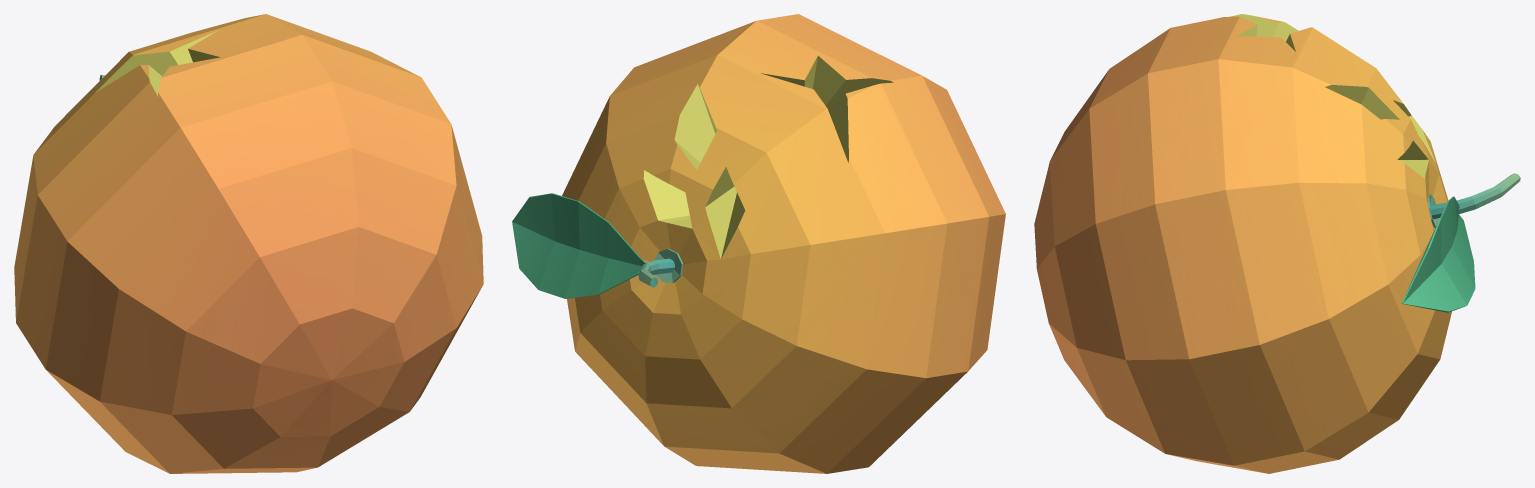
The model's file is SM_Punctured_Orange02.fbx.
The picture shows the model from 3 angles, left to right: view 1: azimuth 30°, elevation 25°; view 2: azimuth 150°, elevation 25°; view 3: azimuth 270°, elevation 25°; orthographic projection. The views are drawn at different scales.
Parts seen in each view (by area): view 1: SM_Punctured_Orange02; view 2: SM_Punctured_Orange02; view 3: SM_Punctured_Orange02.
Part boxes in pixels (x1=…): SM_Punctured_Orange02: x1=14, y1=14, x2=483, y2=473; SM_Punctured_Orange02: x1=512, y1=14, x2=1005, y2=473; SM_Punctured_Orange02: x1=1034, y1=14, x2=1520, y2=473.
Bounding box in the file's own units: 0.0975 × 0.1039 × 0.0985.
